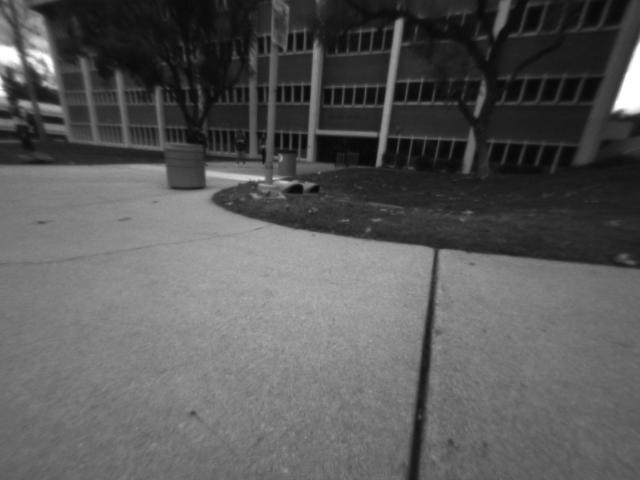trashcan: (166, 142, 214, 190), (276, 149, 293, 176)
